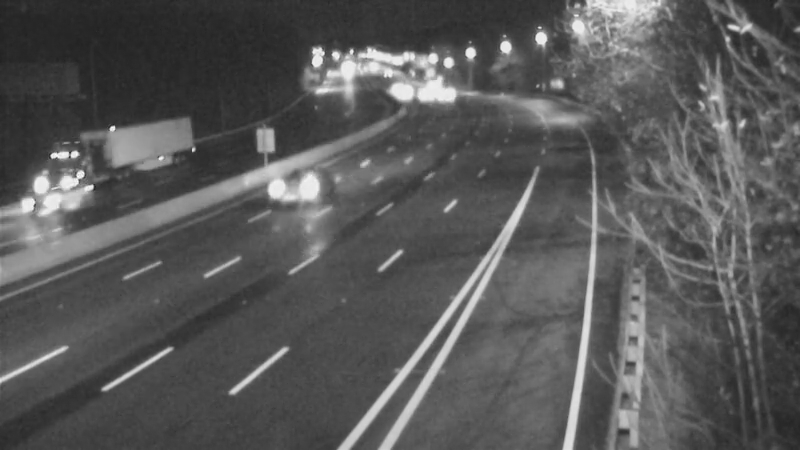vehicle: (255, 149, 335, 229), (24, 134, 104, 214), (7, 168, 87, 248), (406, 62, 456, 112), (378, 66, 428, 116), (420, 67, 470, 117), (397, 70, 447, 120)
